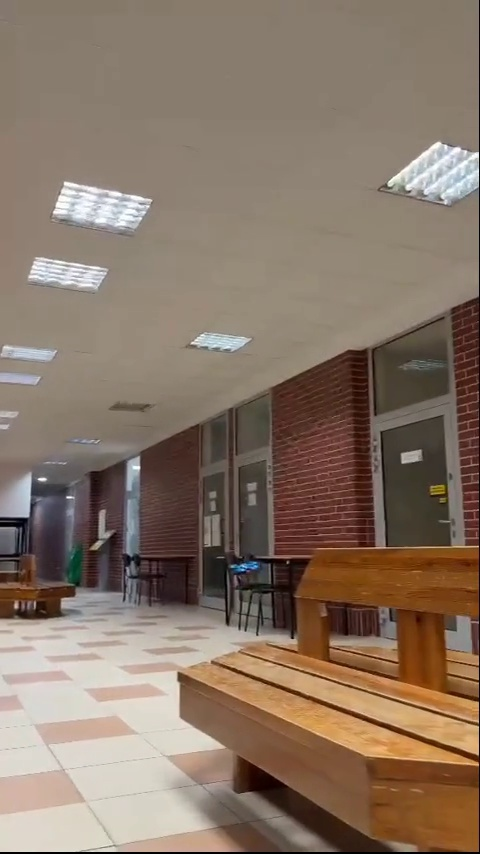drone: (230, 562, 263, 577)
